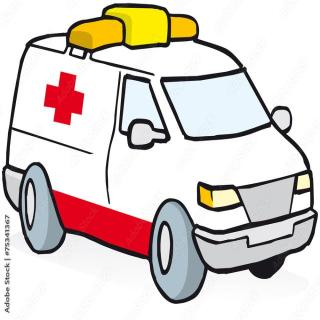Ambulance: (13, 8, 318, 309)
